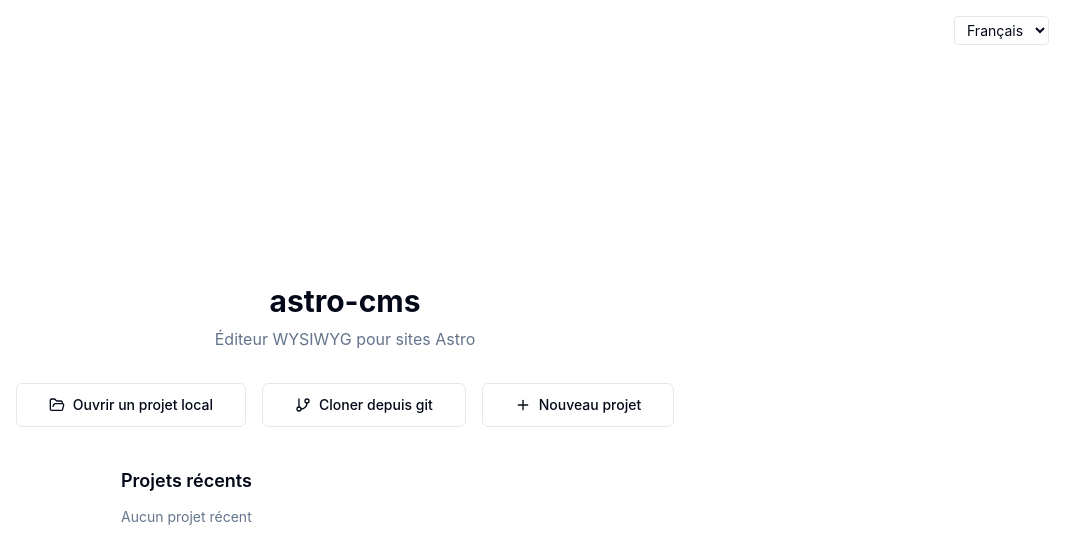
App wizard flow › clicking "Nouveau projet" opens the wizard
Click the button "Nouveau projet": [578, 405] box [482,383,674,427]
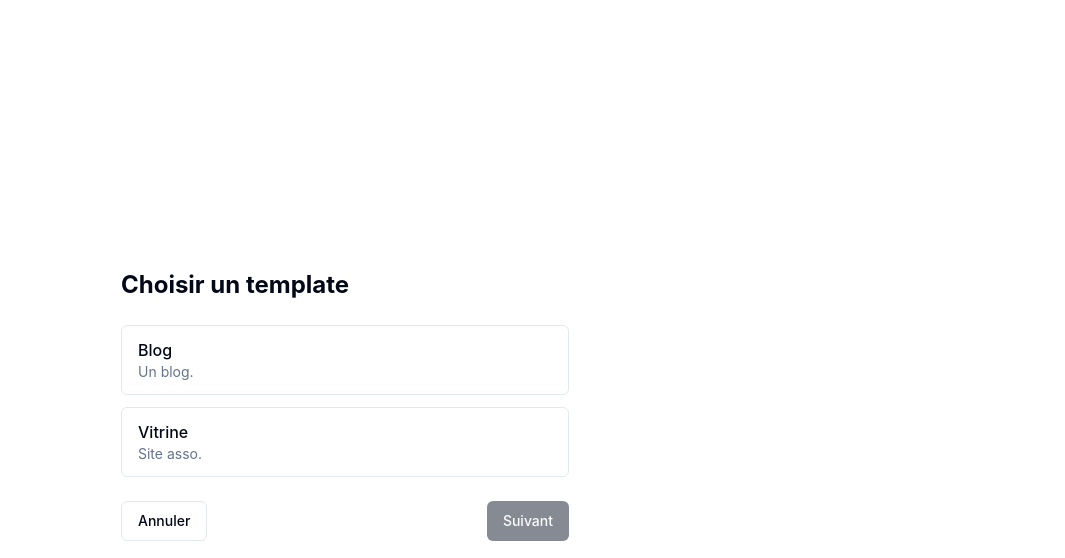
Expected: the heading "Choisir un template" is shown, [121,270,349,299]
